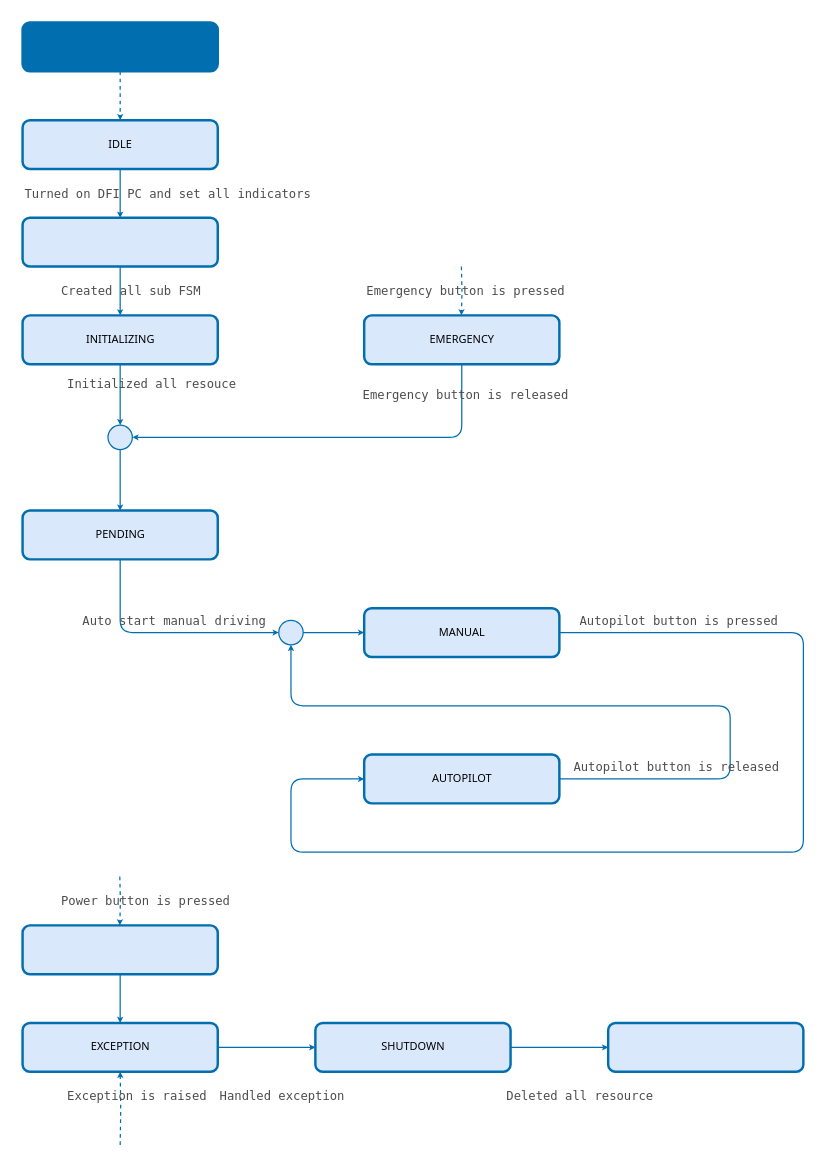
This 830x1171 diagram has some shape labels left out. Here are the shapes that lost their labels. From the top down, the centre of each, then its label:
(x=119, y=46): CORE FSM
(x=119, y=241): CREATING
(x=119, y=949): POWER OFF
(x=705, y=1046): TERNIMATING
